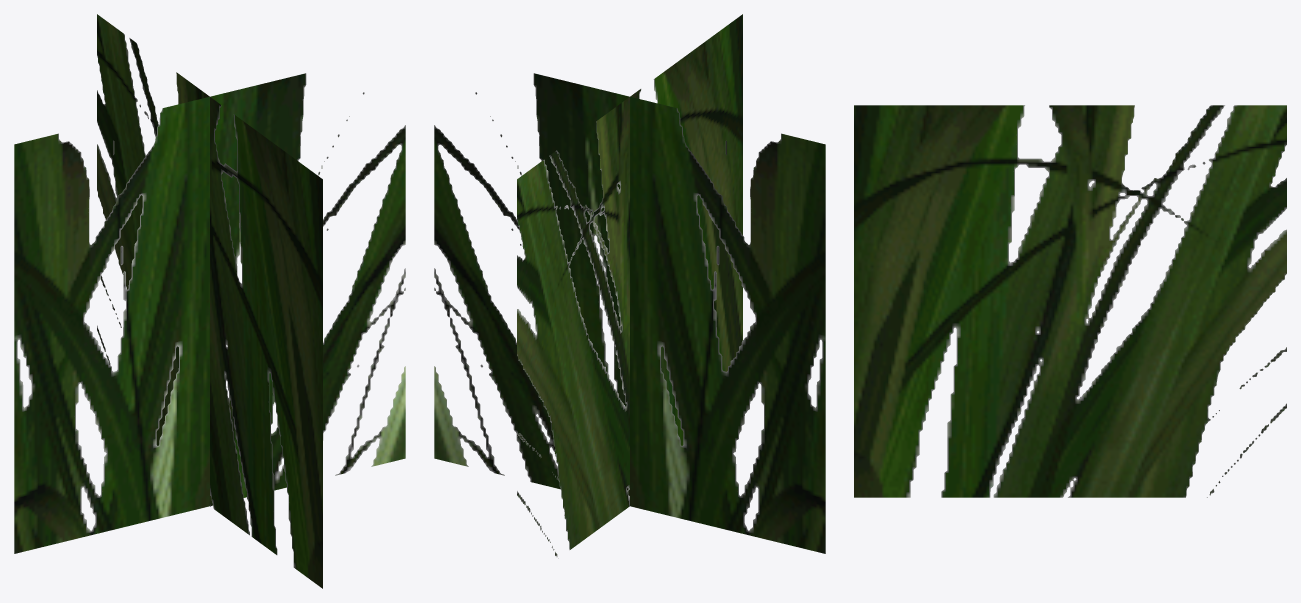
File: flower.fbx
The picture shows the model from 3 angles, left to right: view 1: azimuth 30°, elevation 25°; view 2: azimuth 150°, elevation 25°; view 3: azimuth 270°, elevation 25°; orthographic projection. The views are drawn at different scales.
Visible parts, largest first — view 1: pPlane9; view 2: pPlane9; view 3: pPlane9.
Part boxes in pixels (x1,y1,x2,y2): pPlane9: (14,14,405,588); pPlane9: (434,14,825,558); pPlane9: (854,105,1286,497).
Bounding box in the file's own units: 49.26 × 49.26 × 49.26.
